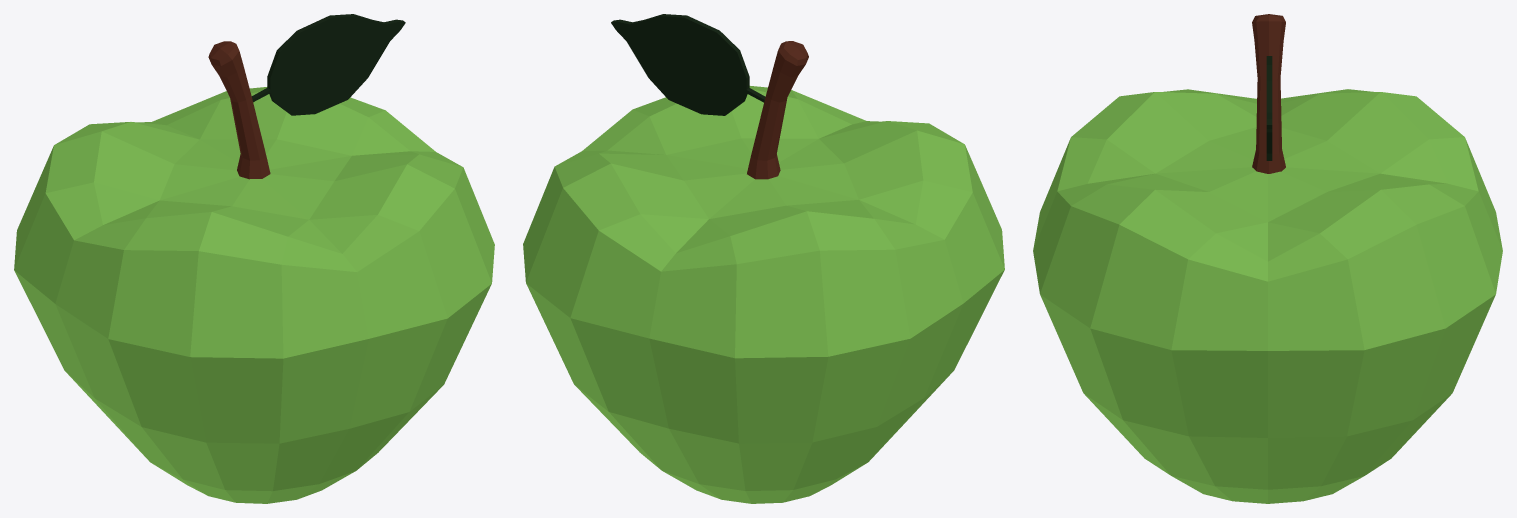
The model's file is Food_Apple_Green.glb.
3 renders of one model, left to right at view 1: azimuth 30°, elevation 25°; view 2: azimuth 150°, elevation 25°; view 3: azimuth 270°, elevation 25°, orthographic. The views are drawn at different scales.
Visible parts, largest first — view 1: Apple_Green; view 2: Apple_Green; view 3: Apple_Green.
Boxes of the visible parts, <box> form: Apple_Green: <box>14,14,494,503</box>; Apple_Green: <box>523,14,1004,503</box>; Apple_Green: <box>1033,14,1502,503</box>.
Bounding box in the file's own units: 80.25 × 85.17 × 79.87.
